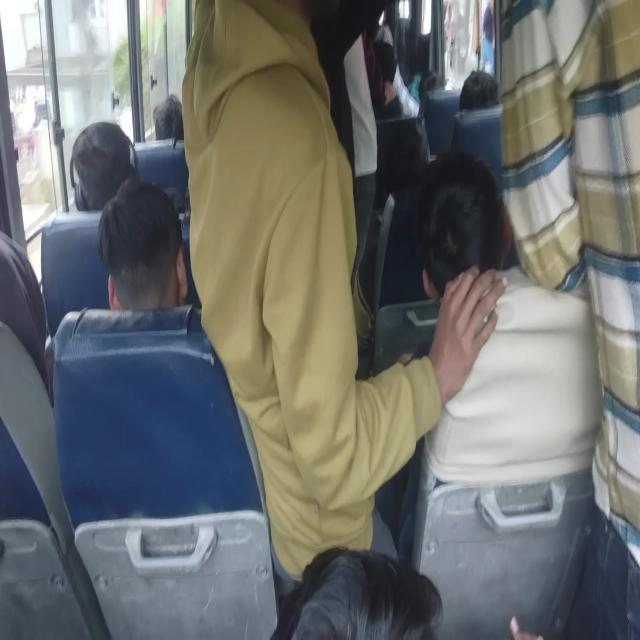person: (524, 70, 640, 466), (184, 0, 322, 141), (359, 116, 429, 356), (266, 548, 436, 638), (413, 150, 506, 302), (98, 179, 186, 312), (0, 223, 49, 402), (68, 120, 138, 214), (380, 124, 429, 198), (370, 29, 408, 118), (458, 70, 499, 111), (153, 94, 185, 144), (162, 186, 188, 219), (416, 32, 432, 74), (418, 70, 438, 102)
